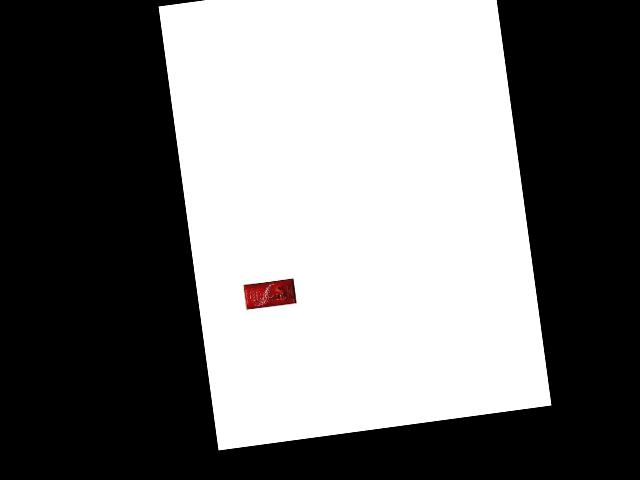chocolate: (242, 277, 300, 311)
